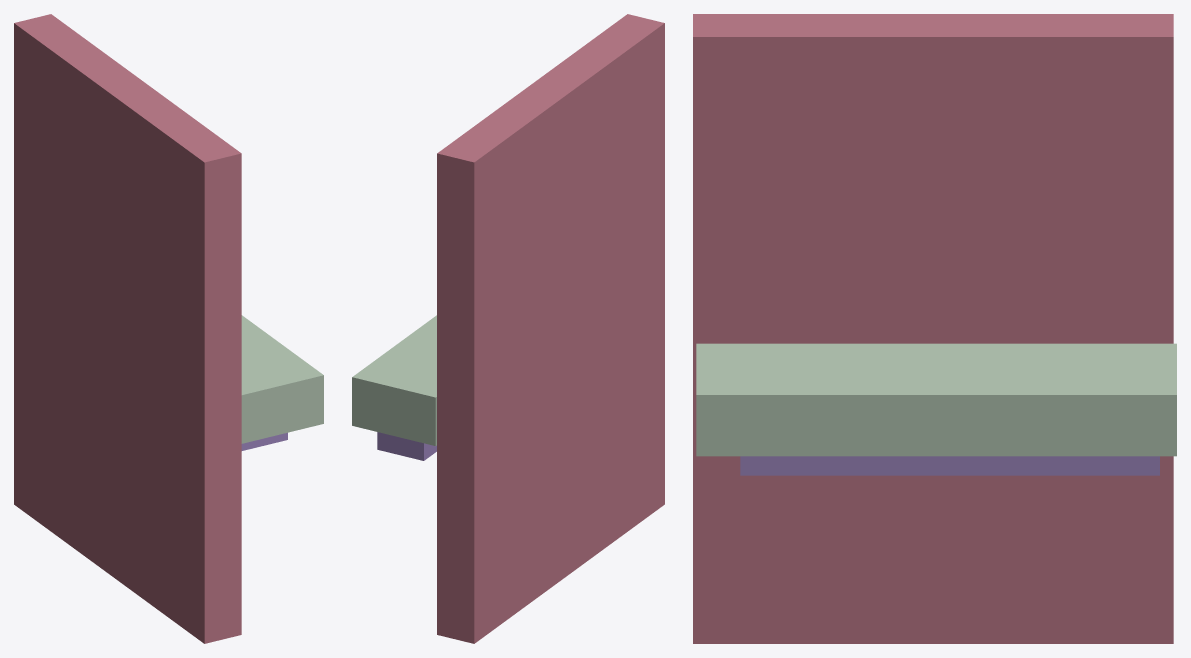
3 views of the same model, side by side, from view 1: azimuth 30°, elevation 25°; view 2: azimuth 150°, elevation 25°; view 3: azimuth 270°, elevation 25° (orthographic). The views are drawn at different scales.
Visible parts, largest first — view 1: world; view 2: world; view 3: world.
Boxes of the visible parts, <box> form: world: <box>14,14,323,643</box>; world: <box>352,14,664,643</box>; world: <box>693,14,1176,643</box>.
Bounding box in the file's own units: 2.6 × 9.9 × 7.15.
